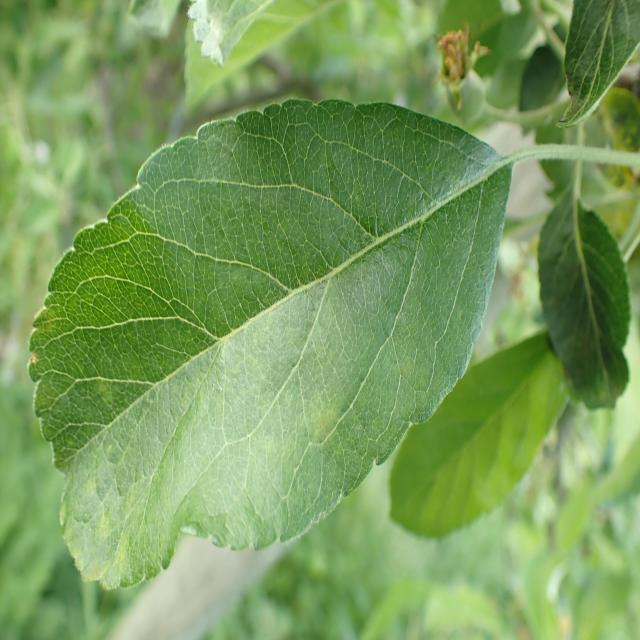scab: (38, 218, 454, 568)
